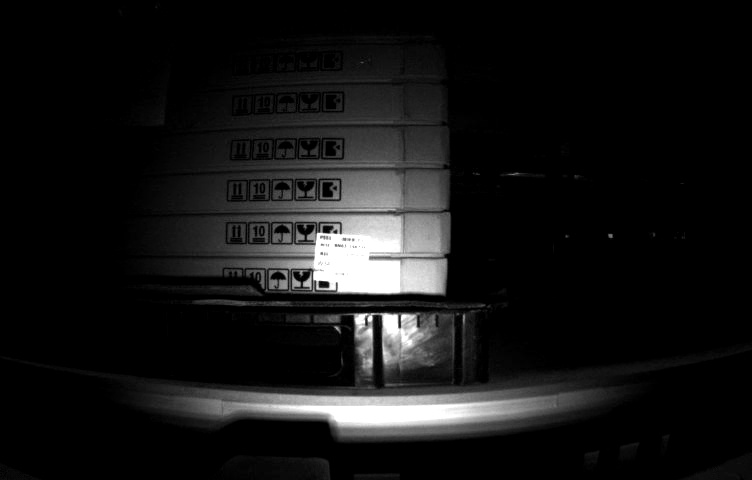True Barcode: (313, 224, 376, 290)
